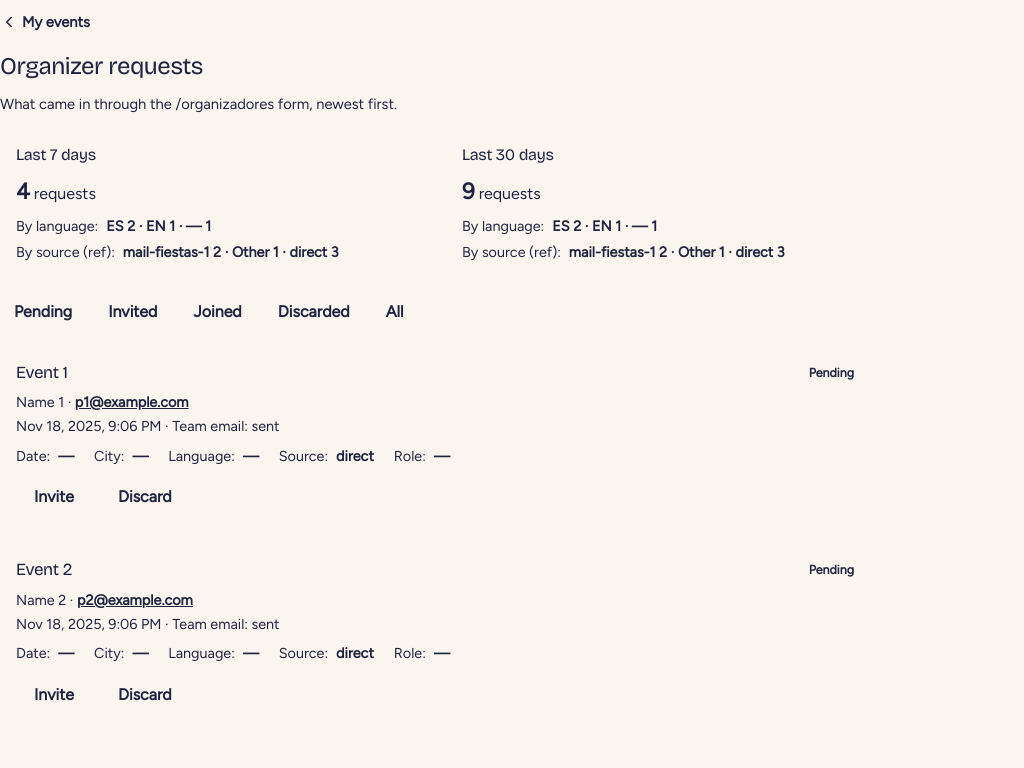
Test: admin requests: invite › sends the note, disables Send while in flight, shows a toast and removes the row from Pending
The image size is (1024, 768).
Click the button with aria-label "Invite: Name 1": [54, 497] box [16,475,92,519]
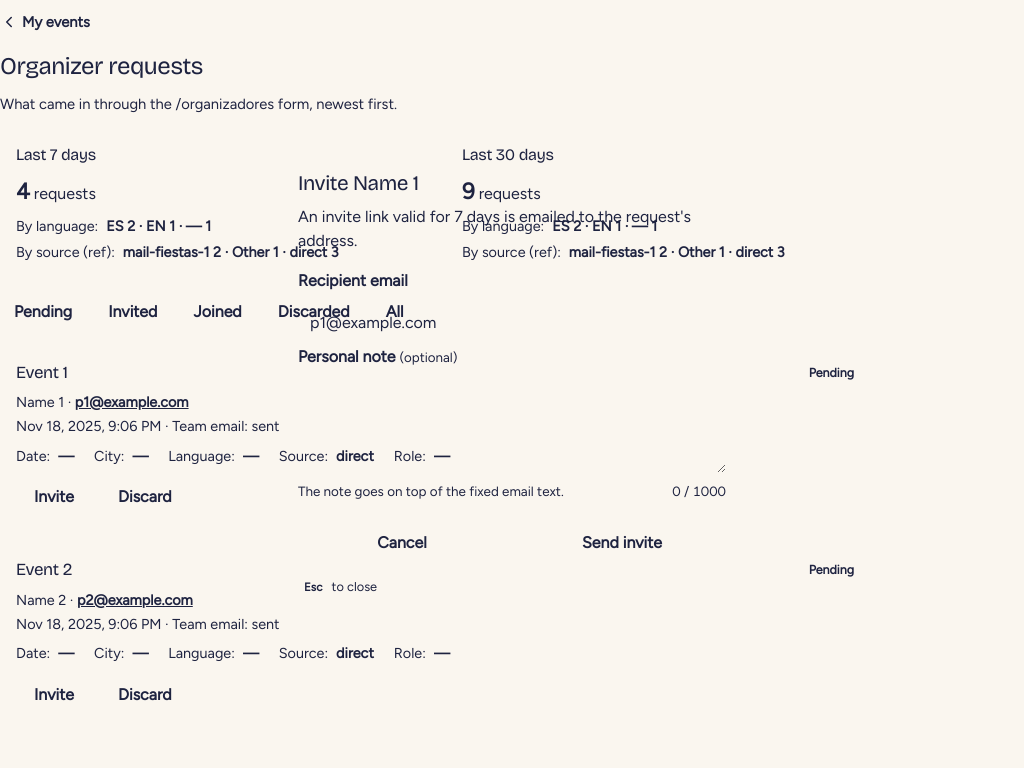
In the text box labelled "Personal note (optional)": [512, 425] box [298,377,726,473], type "Hi!"
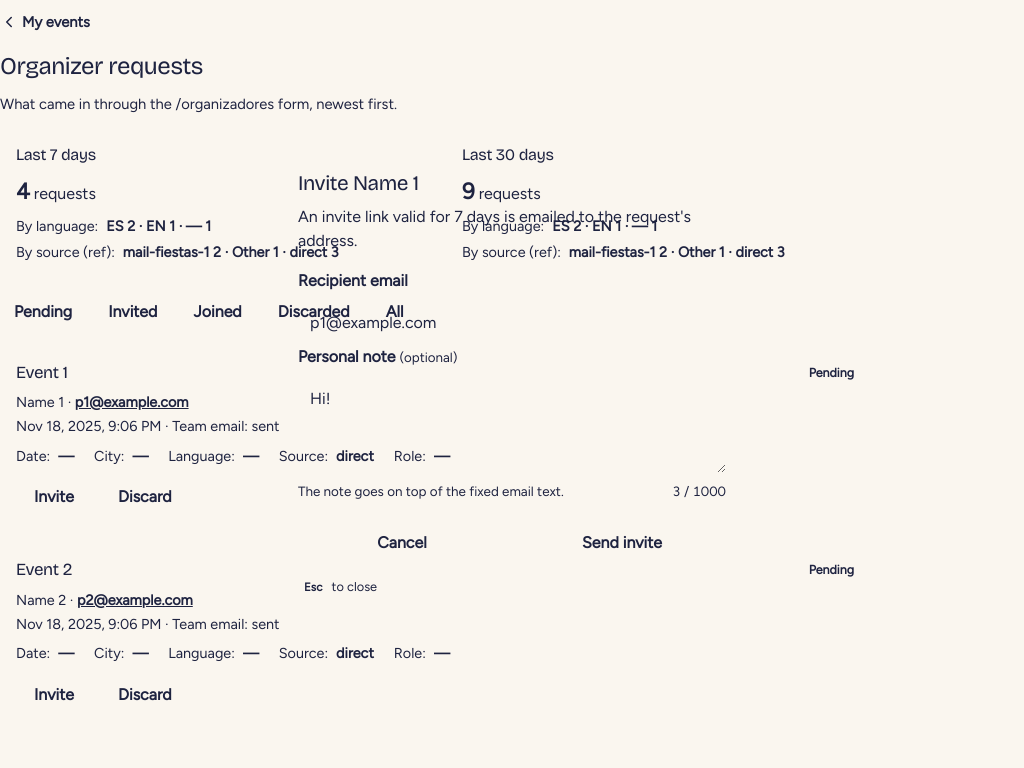
Expected: the text "3 / 1000" is shown, [672,481,726,501]
Click the button "Send invite": [622, 543] box [518,521,726,565]
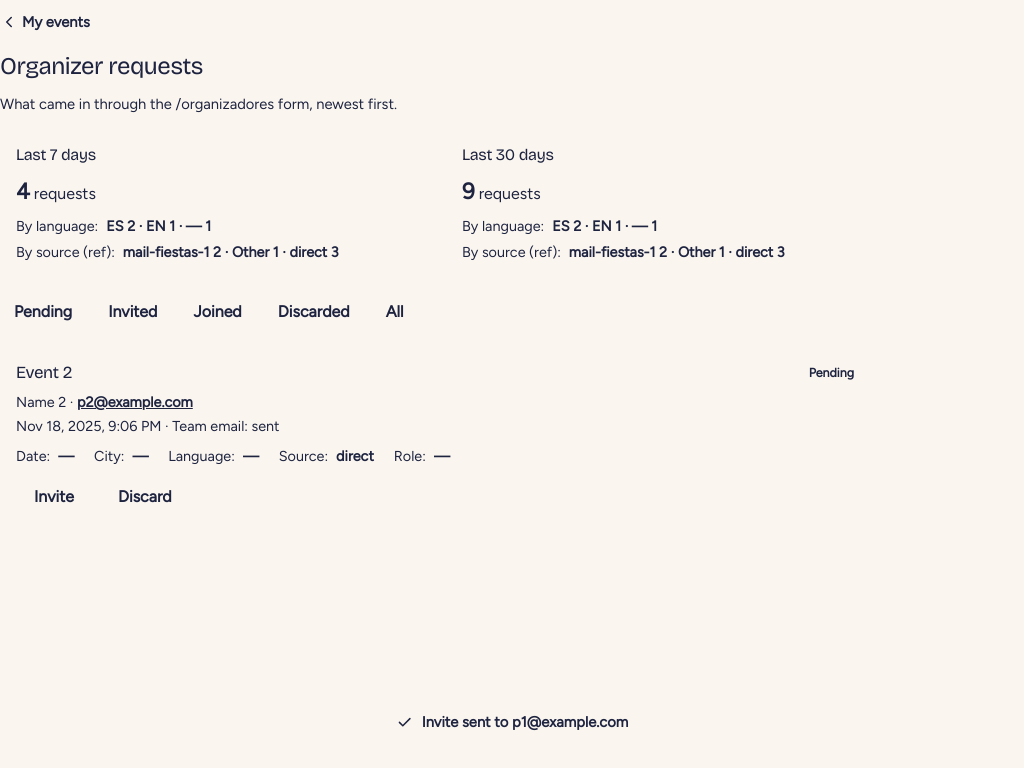
Expected: the text "Invite sent to p1@example.com" is shown, [422,711,628,733]
Expected: the dialog is gone
Expected: the heading "Event 1" is gone
